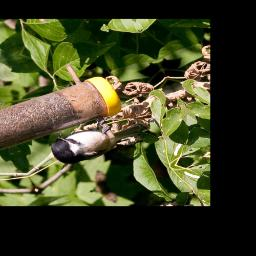Swallow: (41, 115, 128, 170)
